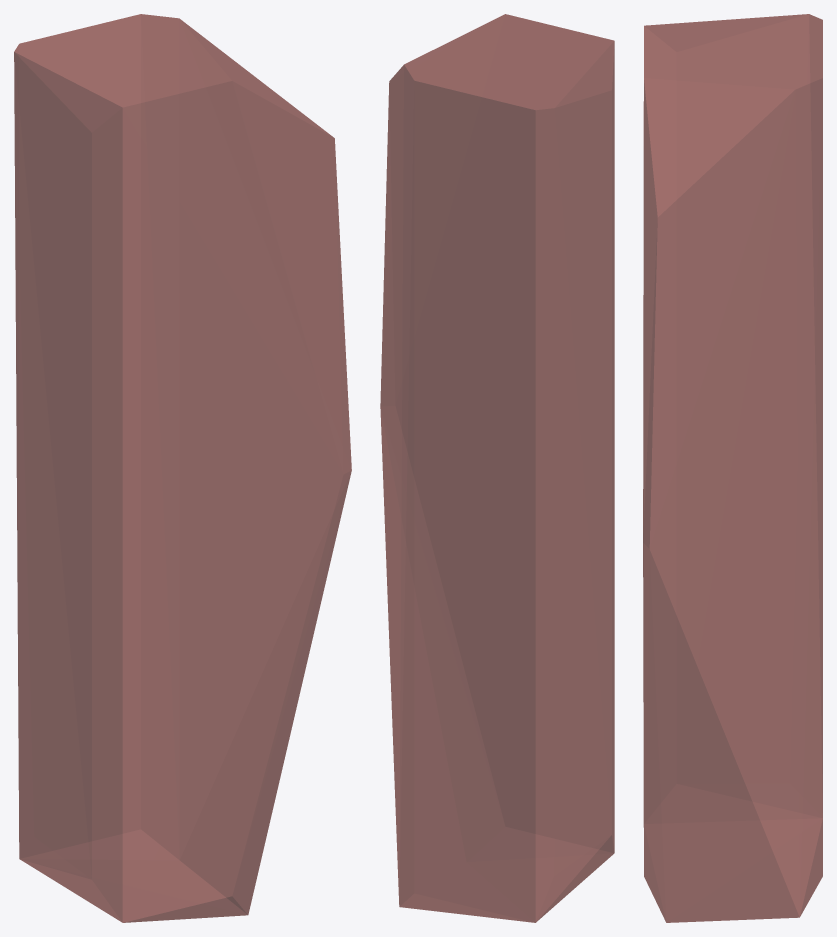
The picture shows the model from 3 angles, left to right: view 1: azimuth 30°, elevation 25°; view 2: azimuth 150°, elevation 25°; view 3: azimuth 270°, elevation 25°; orthographic projection. The views are drawn at different scales.
Visible parts, largest first — view 1: Shape_IndexedFaceSet.046_Shape_IndexedFaceSet.9018; view 2: Shape_IndexedFaceSet.046_Shape_IndexedFaceSet.9018; view 3: Shape_IndexedFaceSet.046_Shape_IndexedFaceSet.9018.
Boxes of the visible parts, <box> form: Shape_IndexedFaceSet.046_Shape_IndexedFaceSet.9018: <box>14,14,351,922</box>; Shape_IndexedFaceSet.046_Shape_IndexedFaceSet.9018: <box>380,14,614,922</box>; Shape_IndexedFaceSet.046_Shape_IndexedFaceSet.9018: <box>643,14,822,922</box>.
Bounding box in the file's own units: 0.1311 × 0.415 × 0.0813.
